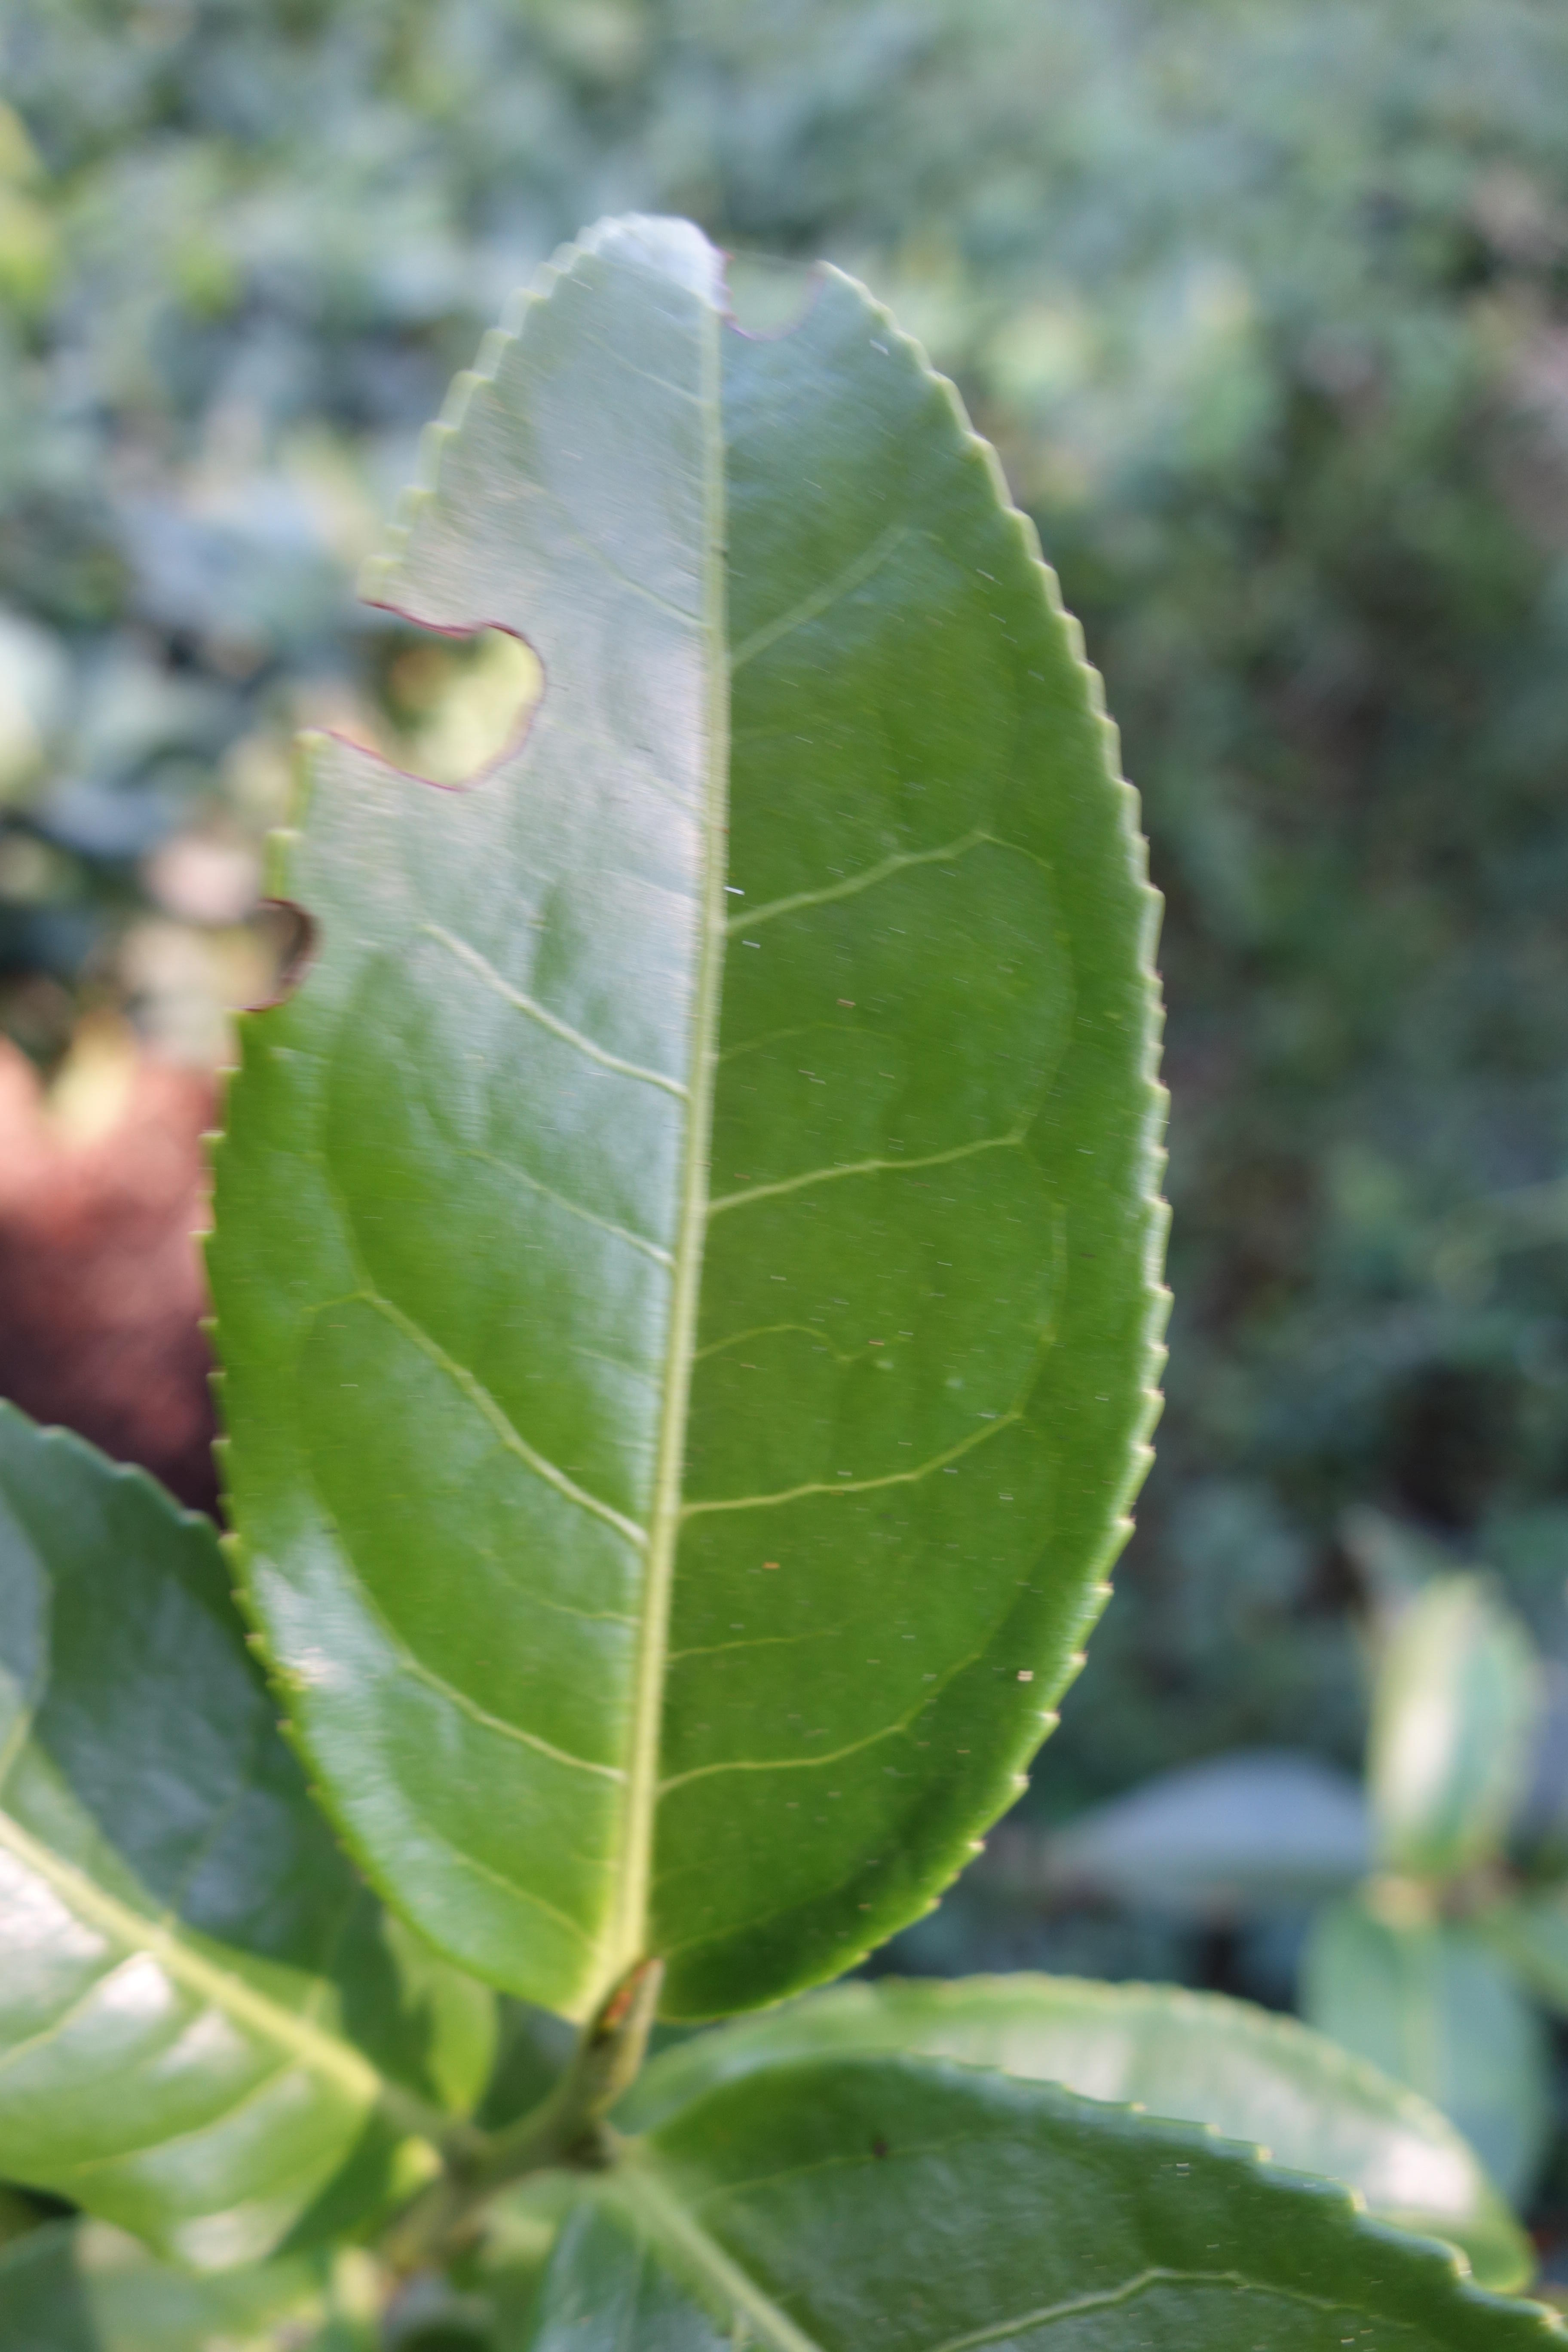chihuo_high: (194, 191, 1186, 2035)
